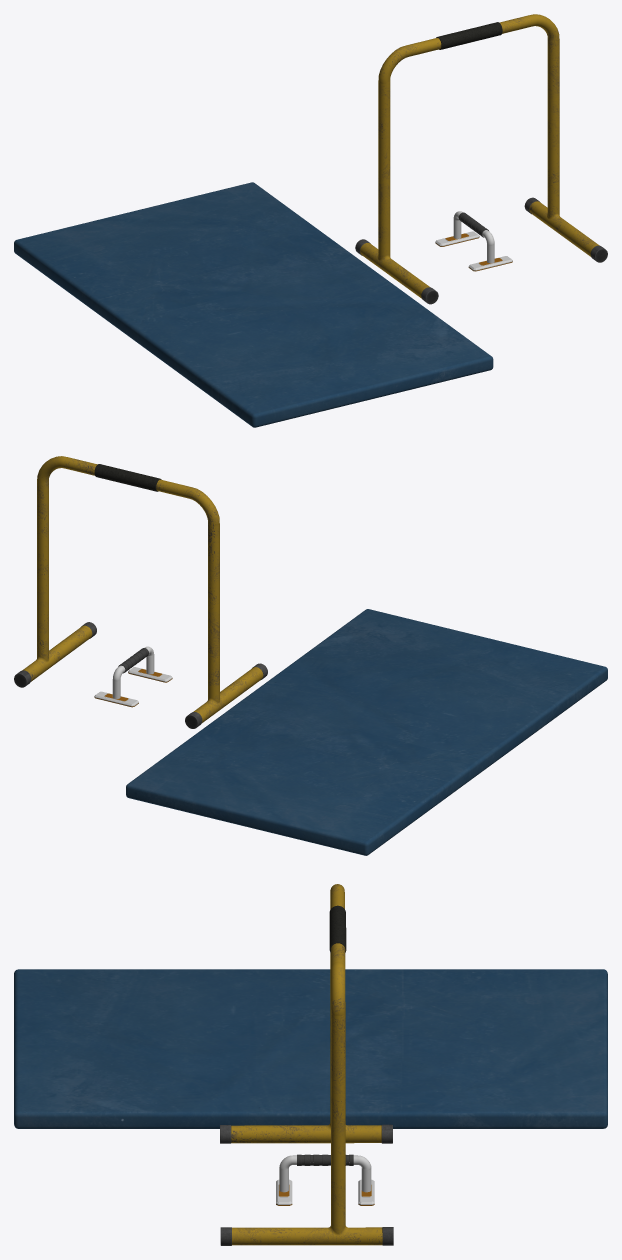
3 renders of one model, top to bottom at view 1: azimuth 30°, elevation 25°; view 2: azimuth 150°, elevation 25°; view 3: azimuth 270°, elevation 25°, orthographic. The views are drawn at different scales.
Parts seen in each view (by area): view 1: Soft_matt_2, gym_frame_1, pushup_0; view 2: Soft_matt_2, gym_frame_1, pushup_0; view 3: Soft_matt_2, gym_frame_1, pushup_0.
Part boxes in pixels (x1=…): Soft_matt_2: x1=14, y1=182, x2=493, y2=427; gym_frame_1: x1=355, y1=14, x2=607, y2=304; pushup_0: x1=435, y1=211, x2=512, y2=271; Soft_matt_2: x1=126, y1=609, x2=607, y2=855; gym_frame_1: x1=14, y1=456, x2=267, y2=728; pushup_0: x1=94, y1=646, x2=172, y2=707; Soft_matt_2: x1=14, y1=969, x2=607, y2=1128; gym_frame_1: x1=220, y1=884, x2=393, y2=1245; pushup_0: x1=276, y1=1154, x2=374, y2=1205.
Bounding box in the file's own units: 1.68 × 0.7992 × 1.59.
